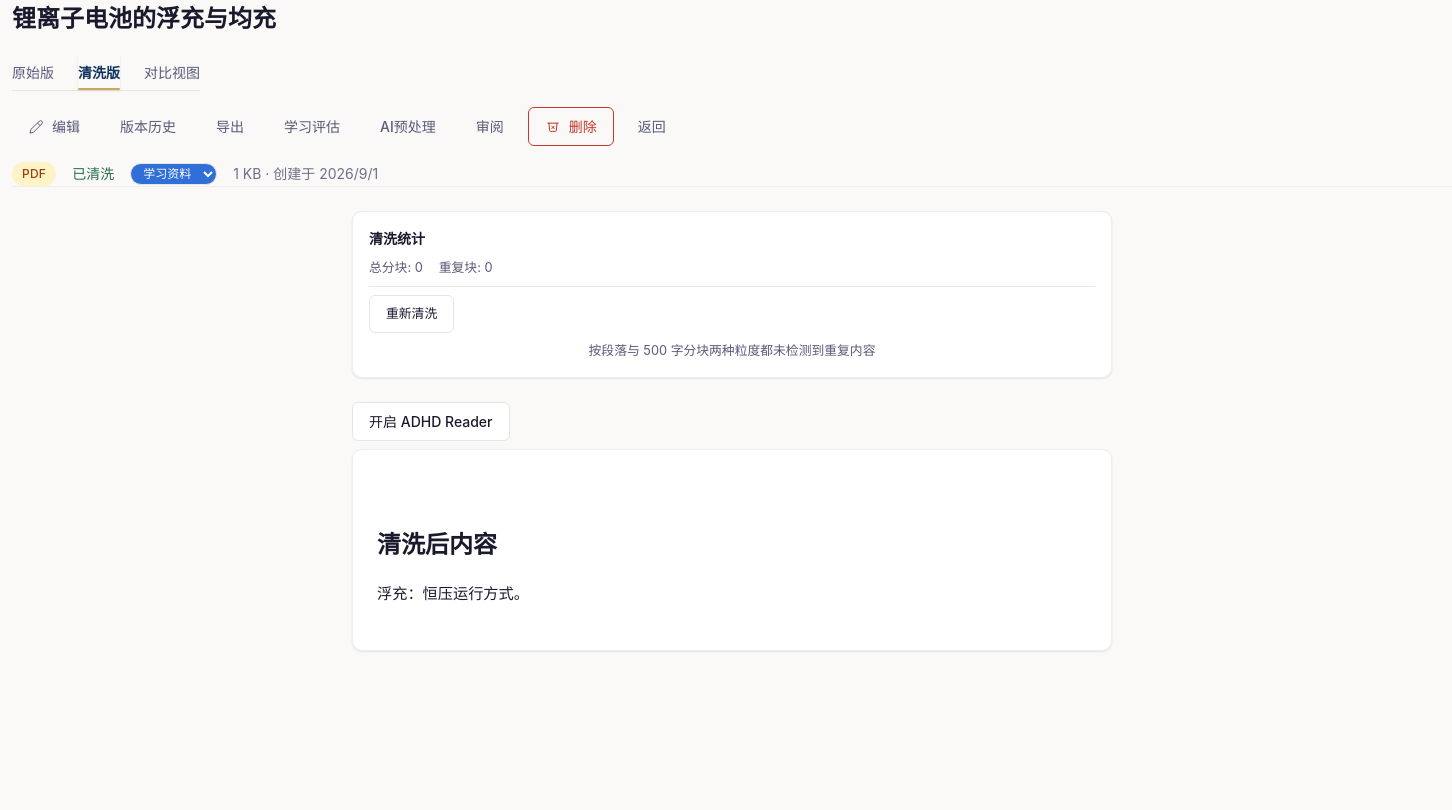
Test: 导出笔记正文 › ★ 对比视图下禁用导出（"对比"不是某一版，没有"这一版"可导）
Check: the heading "锂离子电池的浮充与均充" is shown, box x1=12 y1=0 x2=276 y2=38
Click the button "对比视图": (172, 72) x1=144 y1=54 x2=200 y2=90
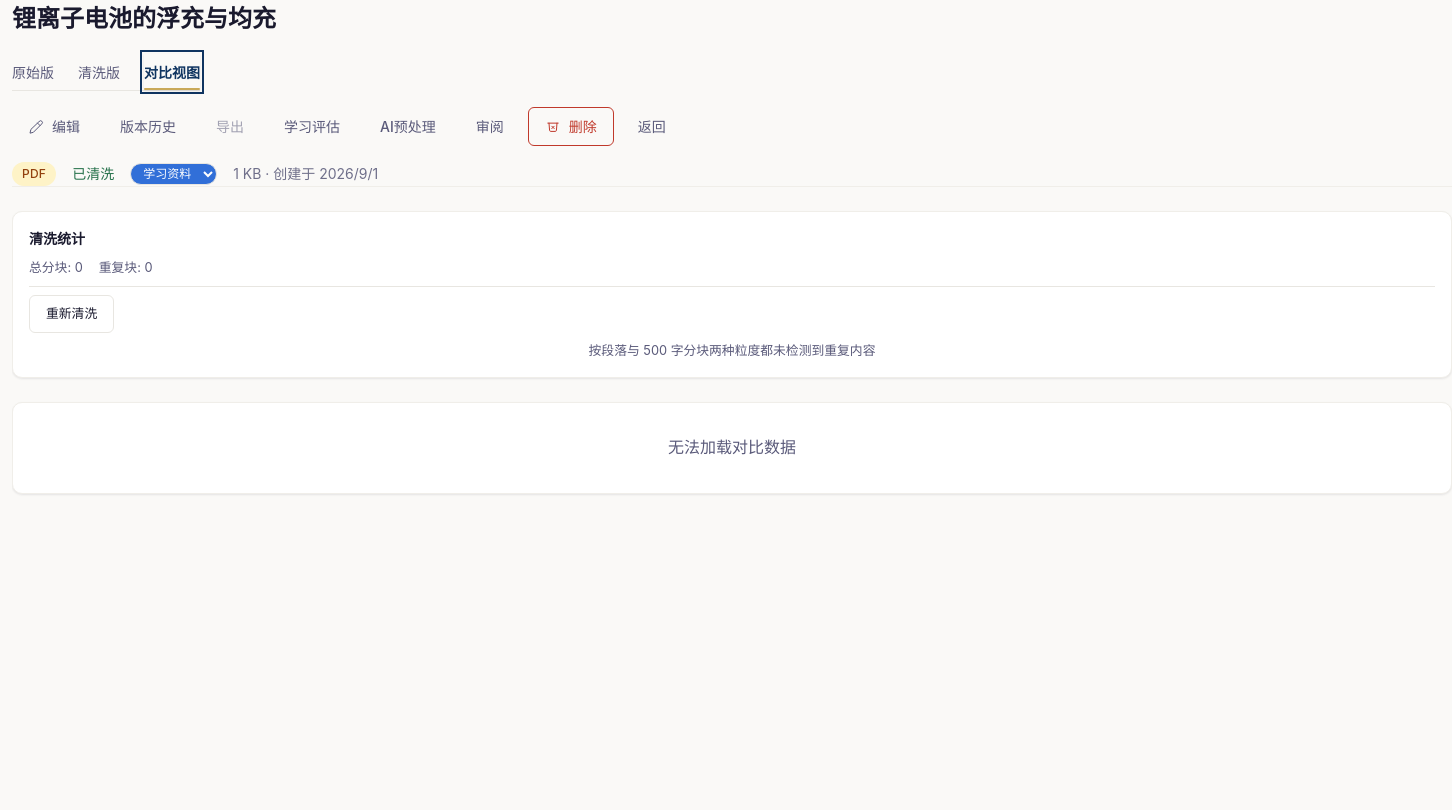
Check: the button "导出" is disabled, box x1=200 y1=108 x2=260 y2=145
